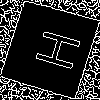H: (24, 24, 83, 73)
